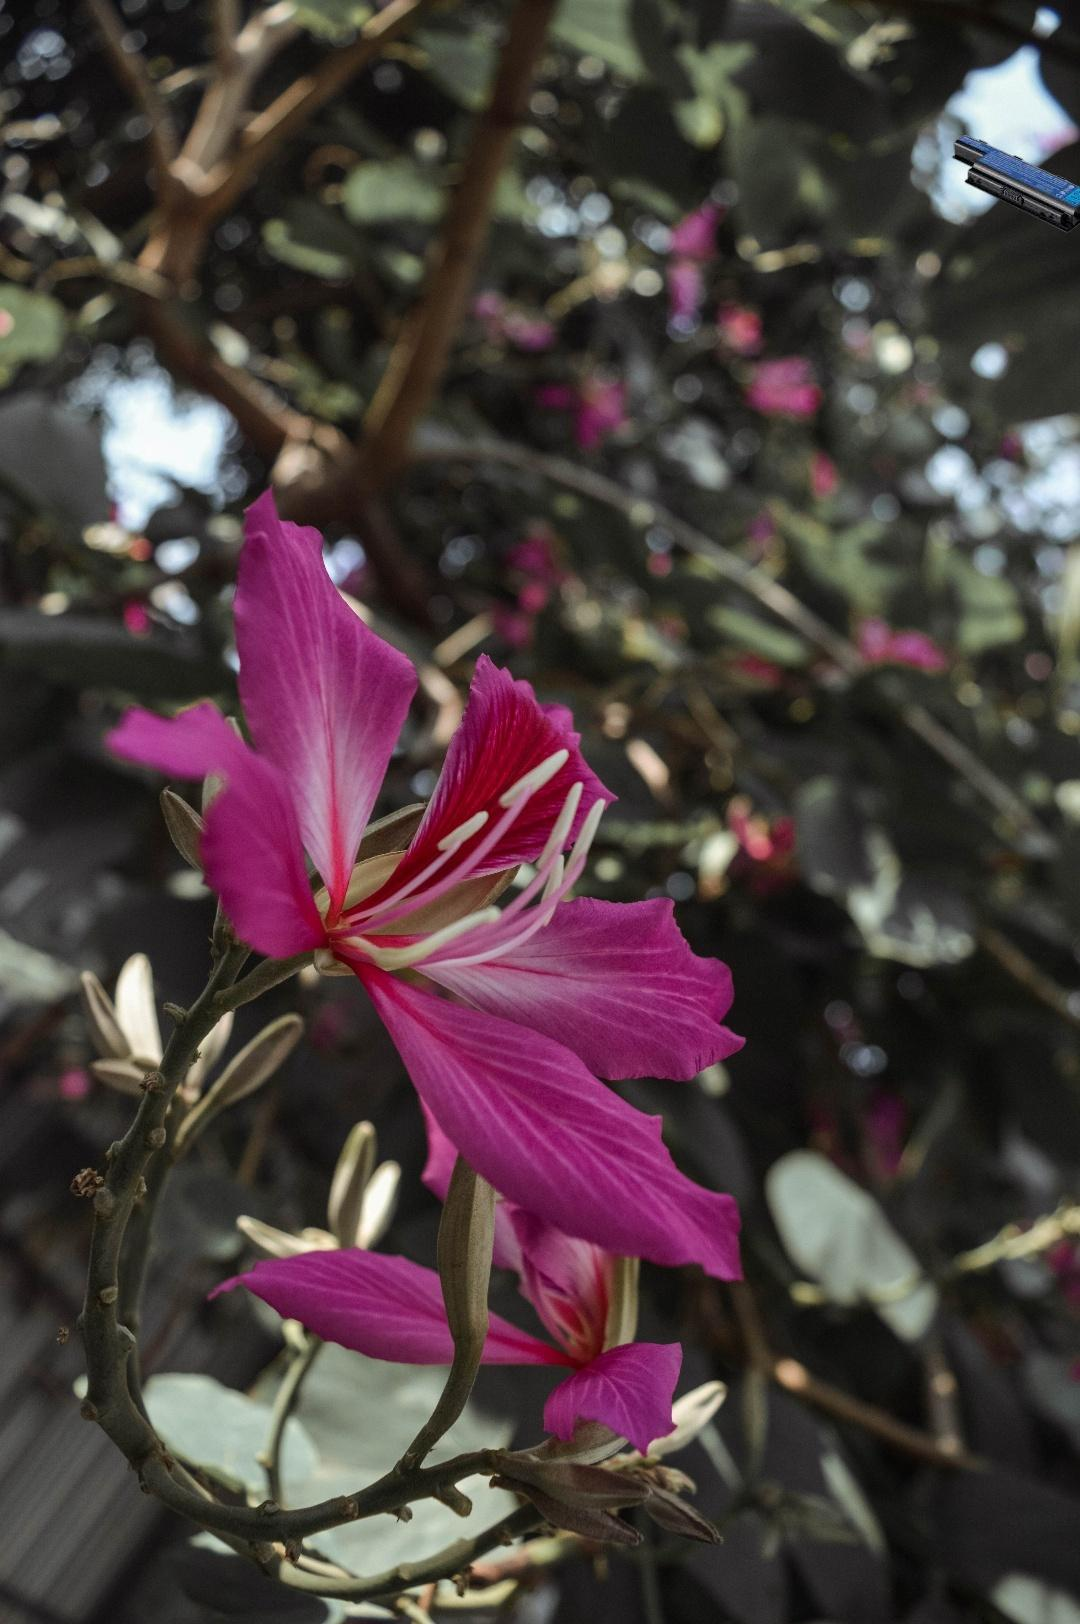battery: (951, 133, 1080, 257)
